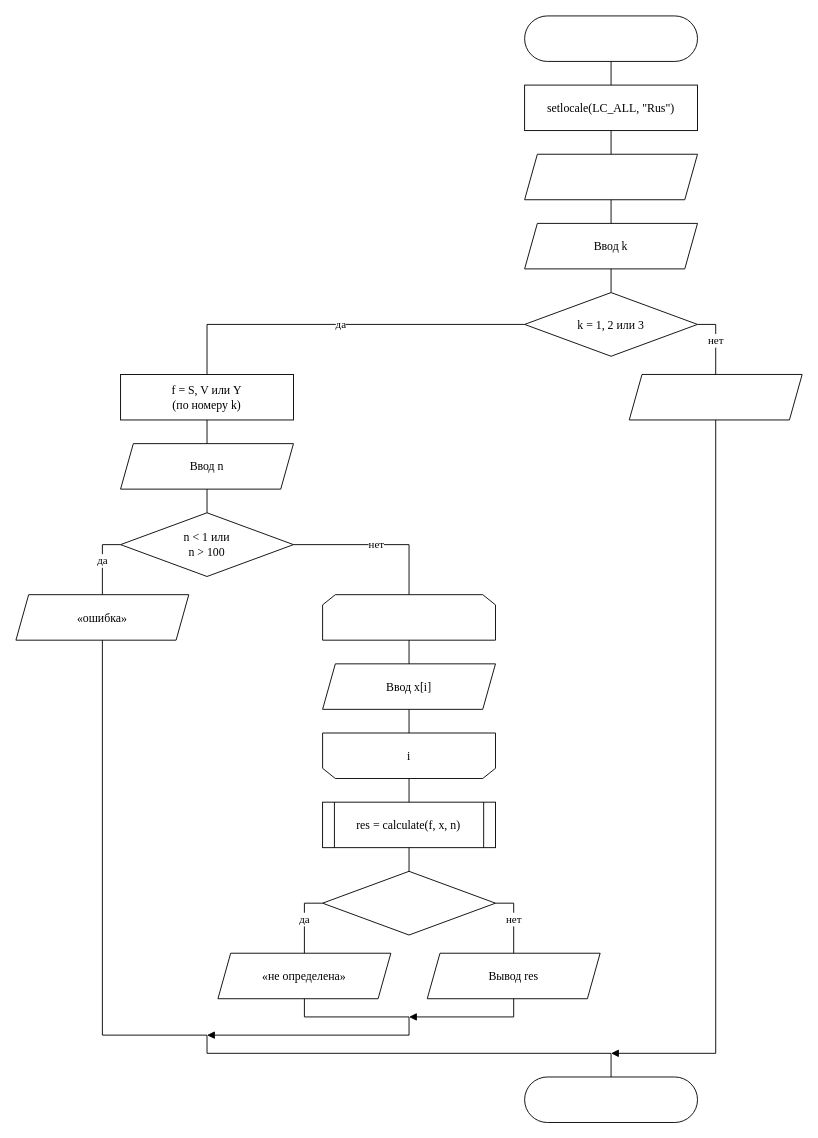
The diagram is 818 pixels wide and 1138 high, and some of its shapes have lost their labels. Here are the shapes that lost their labels. From the top down, the centre of each, then its label:
point (611, 38): Начало
point (611, 176): Вывод списка функций
point (715, 397): «нет такой функции»
point (408, 617): i = 0, n − 1
point (408, 902): res = NAN
point (611, 1099): Конец
